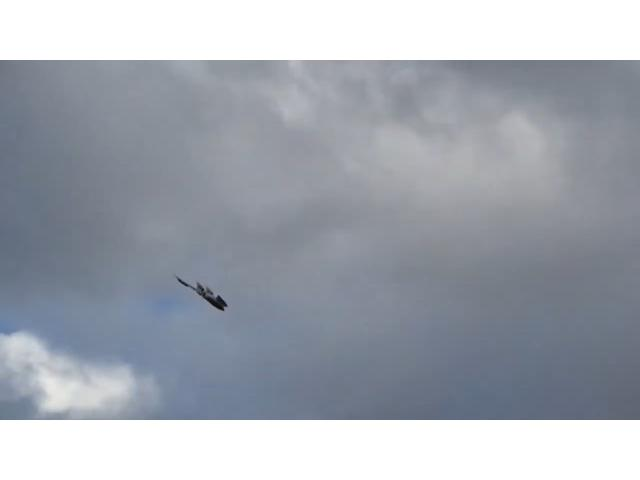Anti-Drone: (173, 272, 229, 312)
